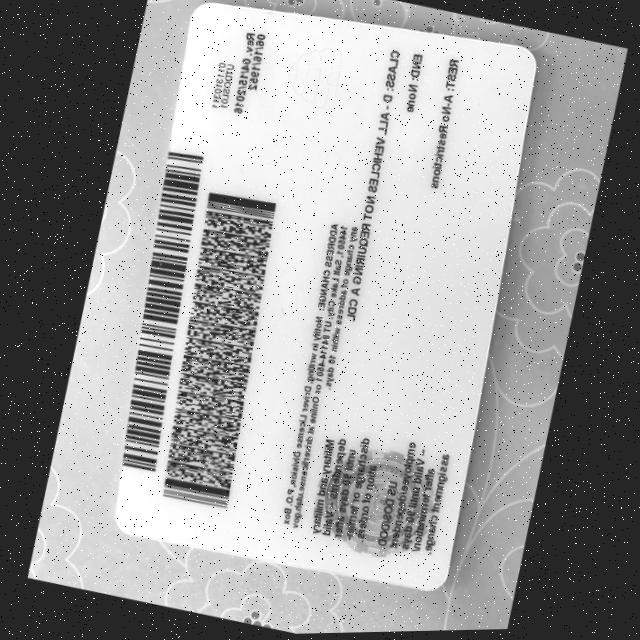card: (116, 4, 533, 588)
